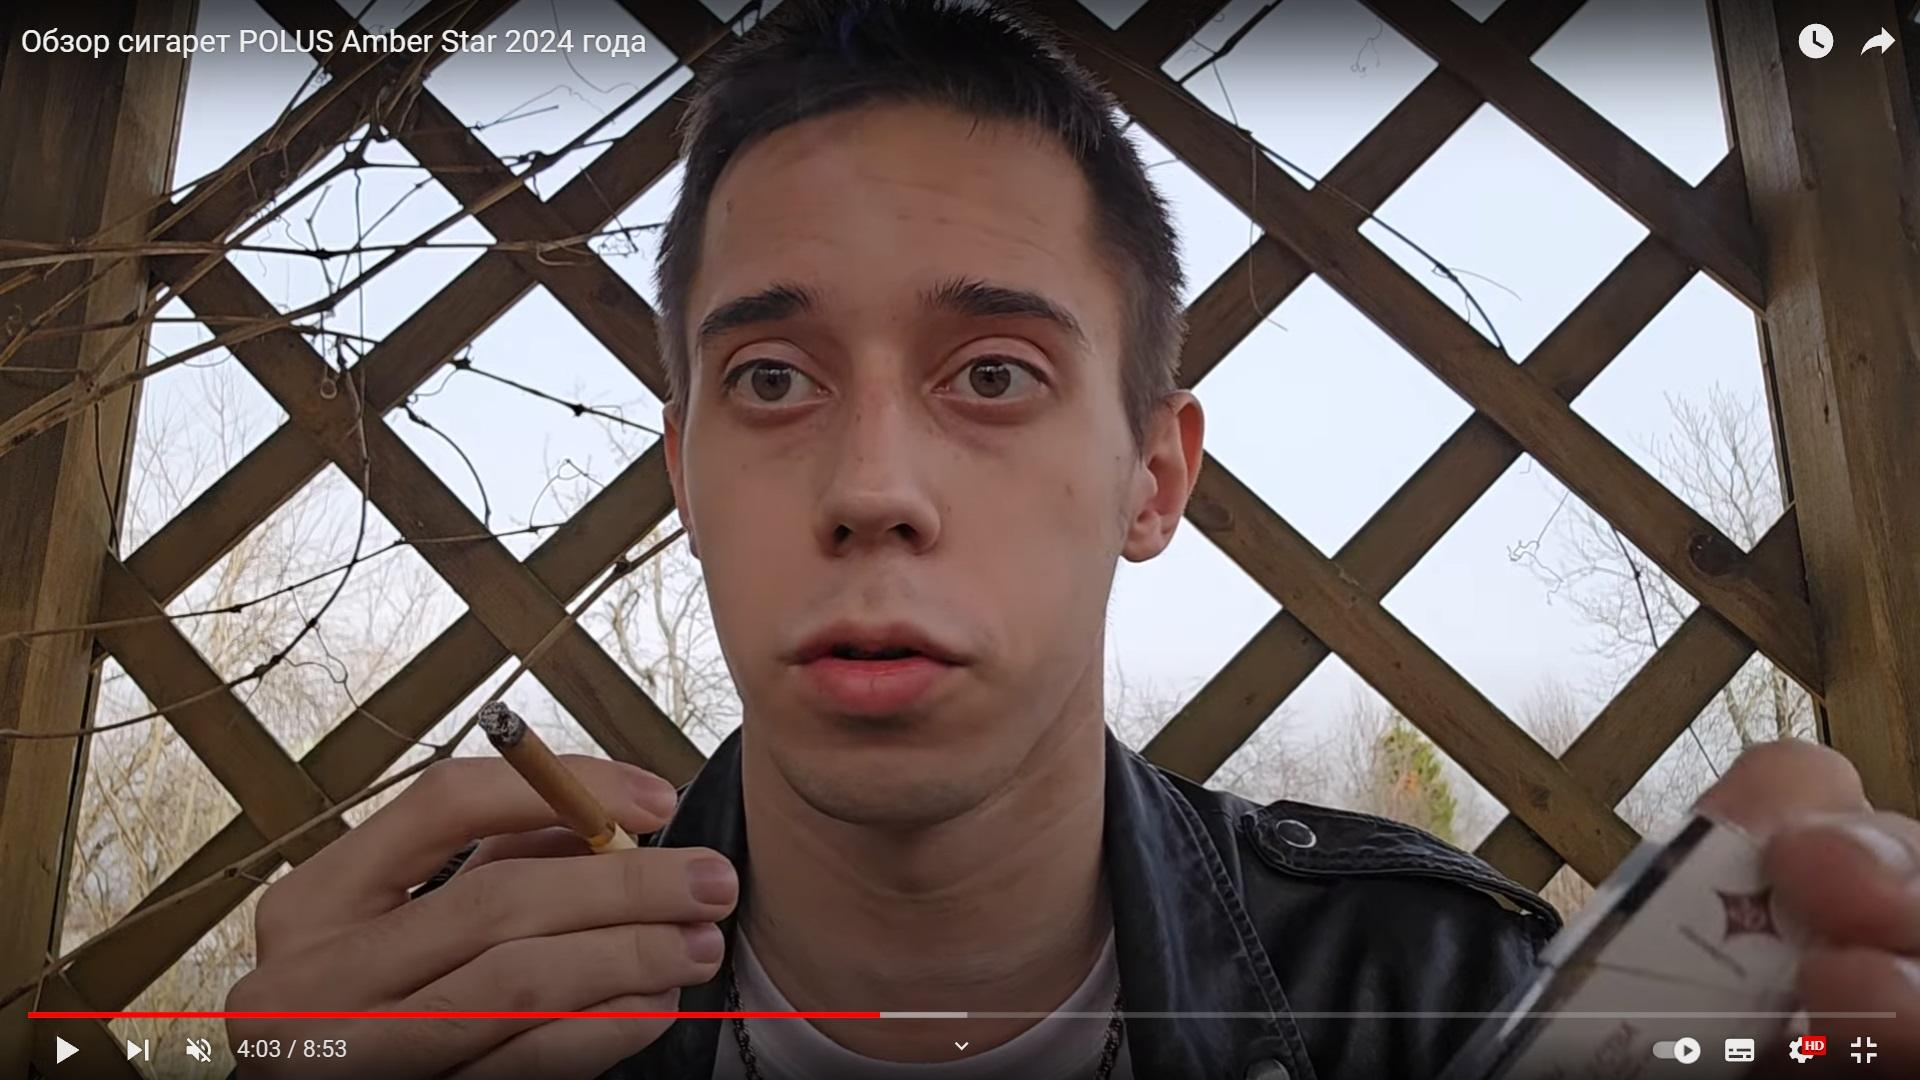cigarette: (480, 700, 641, 853)
